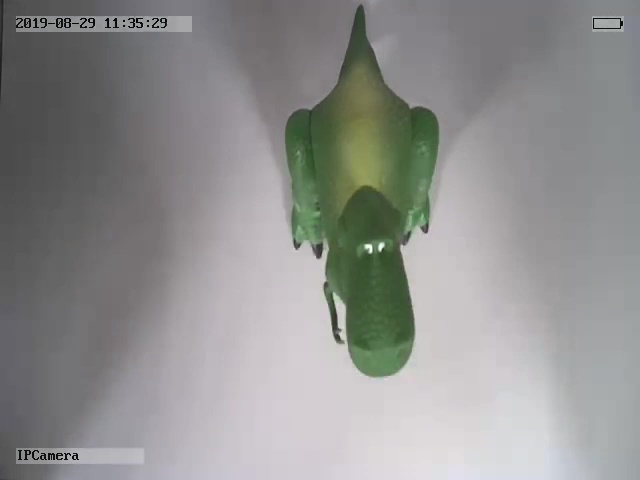rex: (282, 6, 439, 382)
